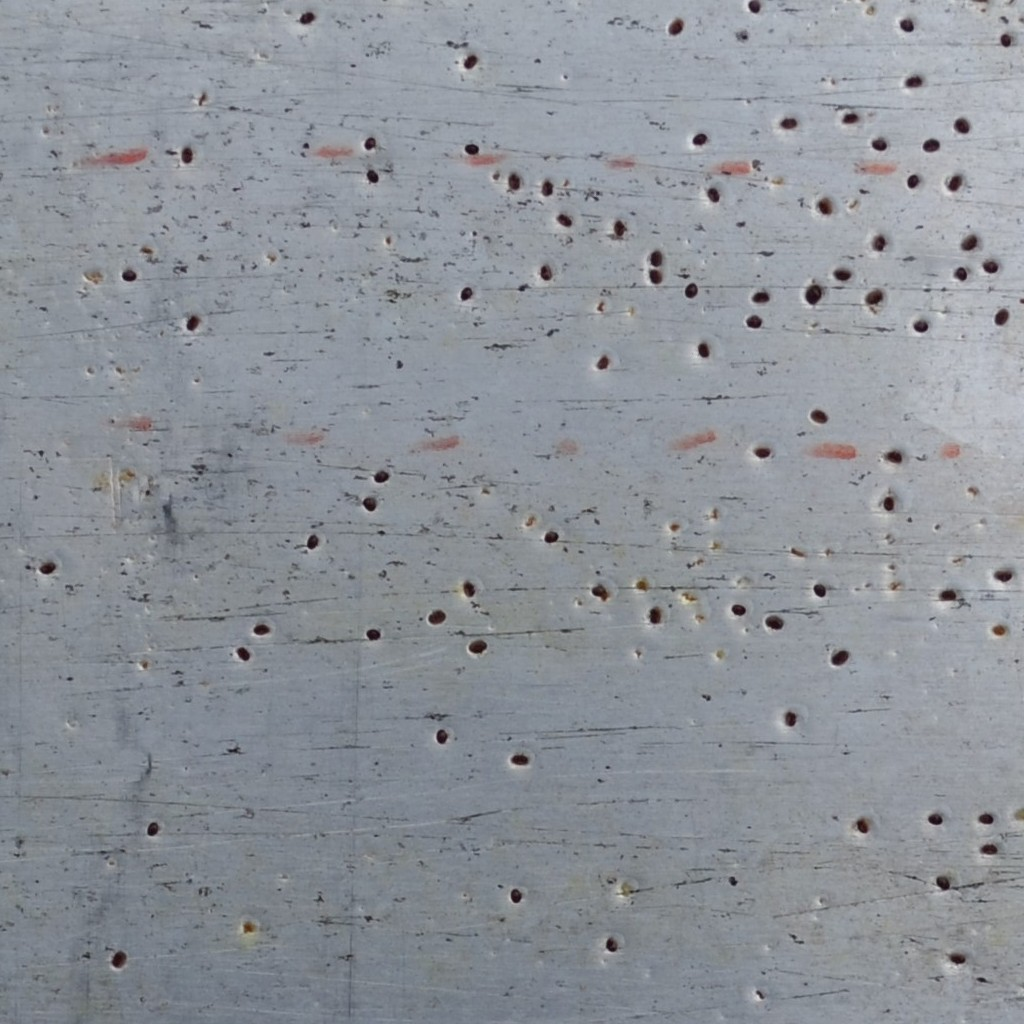varroa: (464, 629, 491, 657), (762, 607, 785, 635), (801, 281, 823, 310), (506, 747, 532, 771), (943, 169, 965, 195), (742, 308, 764, 334), (868, 134, 891, 158), (828, 646, 850, 670), (751, 440, 774, 462), (807, 406, 831, 427), (810, 576, 828, 603), (750, 286, 773, 307), (666, 16, 687, 38), (426, 606, 447, 628), (951, 114, 972, 135), (840, 107, 861, 128), (991, 565, 1014, 584), (832, 266, 854, 285), (997, 29, 1015, 52), (647, 245, 664, 269), (647, 265, 664, 289), (592, 350, 609, 374), (304, 530, 321, 554), (602, 931, 619, 955), (926, 808, 946, 828), (946, 947, 966, 967), (589, 580, 609, 600), (864, 288, 885, 307), (854, 815, 873, 836), (372, 465, 391, 486), (38, 558, 59, 577), (109, 949, 128, 970), (703, 183, 721, 205), (363, 165, 381, 187), (234, 643, 252, 665), (554, 212, 577, 229), (646, 604, 663, 627), (362, 624, 385, 641), (978, 841, 999, 859), (460, 579, 478, 600), (507, 170, 524, 192), (895, 17, 918, 33), (993, 307, 1012, 326), (911, 317, 930, 336), (933, 872, 952, 891), (542, 527, 561, 546), (980, 256, 998, 276), (815, 196, 833, 216), (903, 72, 924, 89), (977, 809, 998, 826), (537, 261, 554, 282), (881, 493, 897, 515), (185, 313, 201, 335), (433, 725, 448, 748), (731, 601, 749, 620), (691, 127, 709, 146), (361, 495, 379, 514), (961, 232, 978, 252), (953, 265, 970, 285), (299, 7, 316, 27), (179, 145, 196, 165), (778, 116, 799, 132), (461, 51, 477, 72), (121, 266, 139, 284), (697, 339, 711, 362), (939, 587, 959, 603), (508, 885, 524, 905), (922, 138, 943, 153), (905, 169, 920, 190), (684, 280, 699, 301), (251, 623, 272, 638), (145, 818, 160, 839), (885, 448, 904, 464), (463, 138, 479, 157), (540, 177, 555, 197), (459, 283, 474, 303), (785, 709, 799, 730), (612, 217, 627, 236), (872, 233, 886, 252), (363, 132, 377, 150), (746, 1, 762, 14)
